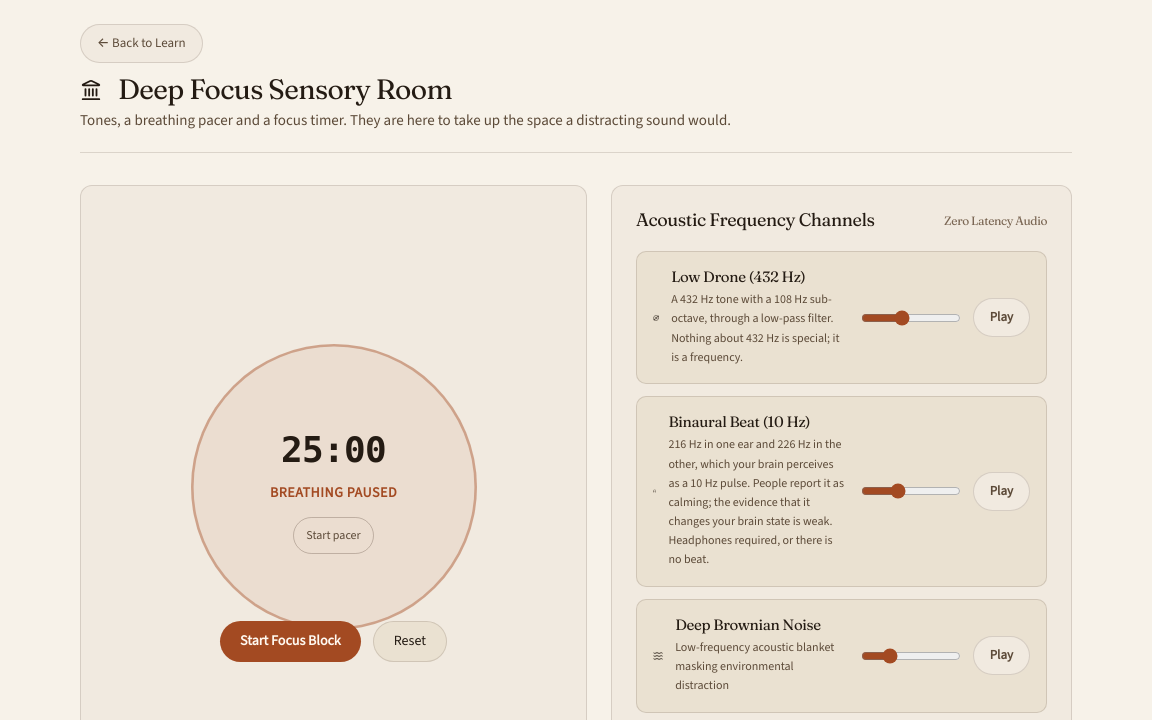
Sensory Rooms › pausing and resuming does not bank the time already used
Click the button "Start Focus Block" at (290, 642), box x1=220 y1=622 x2=361 y2=662
Wait 60000 ms
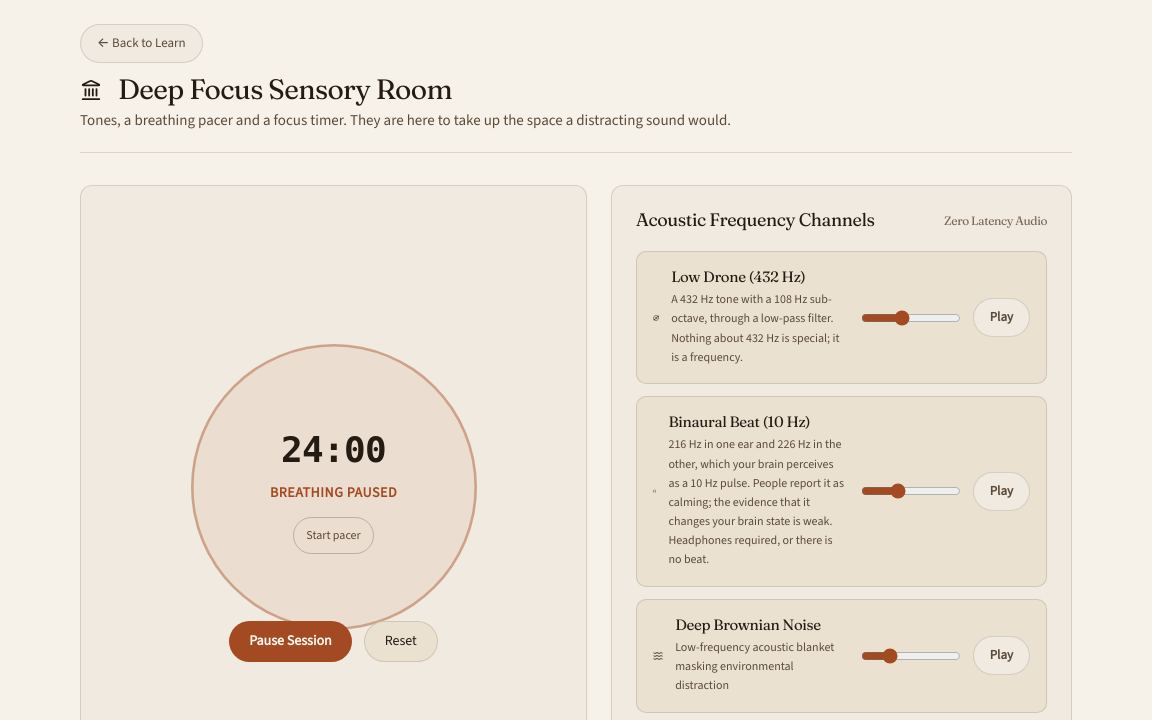
Click the button "Pause Session" at (290, 642), box x1=229 y1=622 x2=352 y2=662
Wait 60000 ms
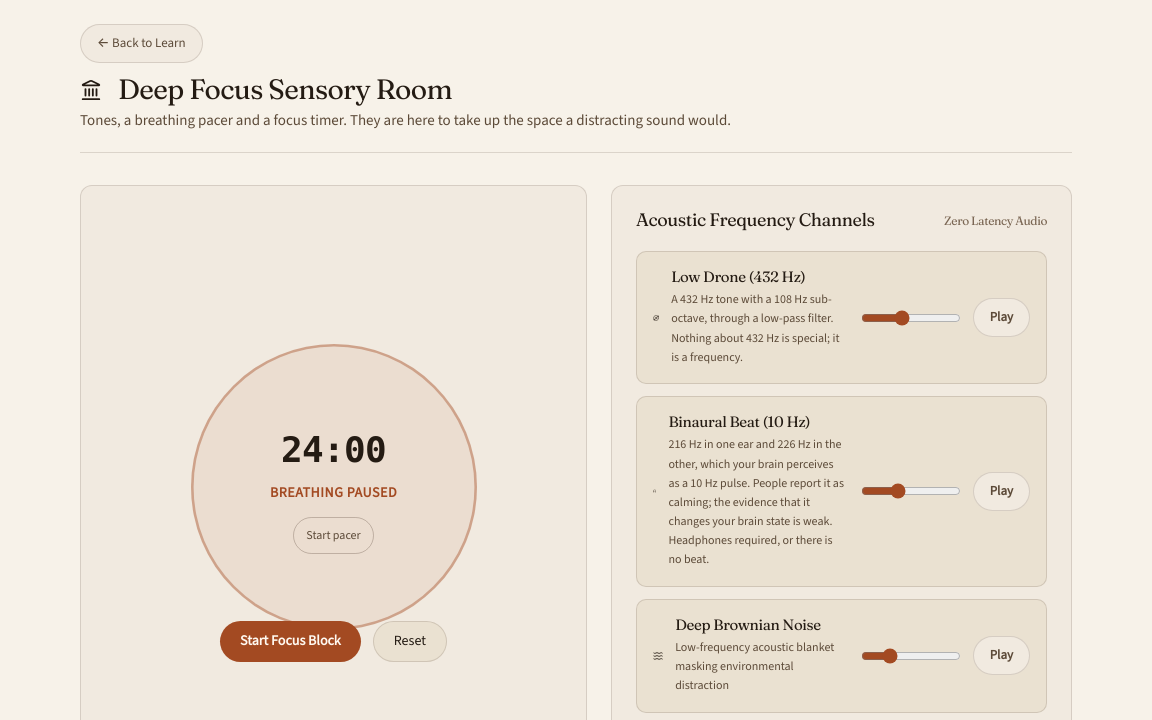
Now the text "24:00" is shown, box x1=281 y1=421 x2=386 y2=478
Click the button "Start Focus Block" at (290, 642), box x1=220 y1=622 x2=361 y2=662
Wait 10000 ms
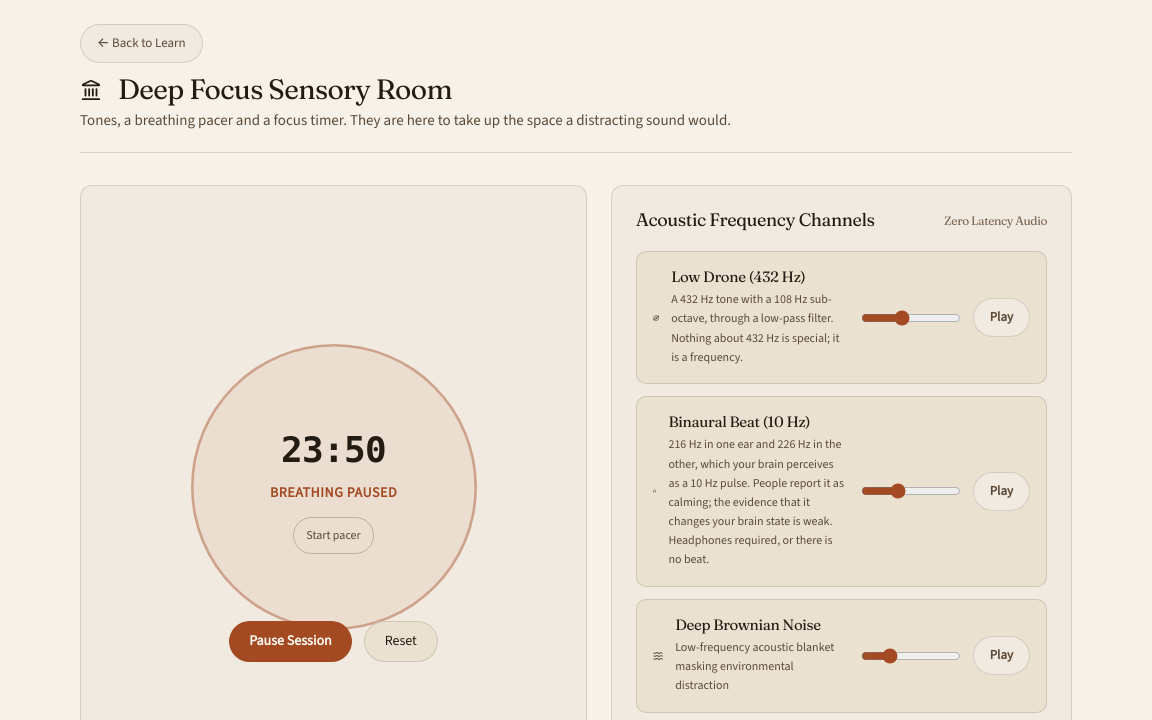
Now the text "23:50" is shown, box x1=281 y1=421 x2=386 y2=478
